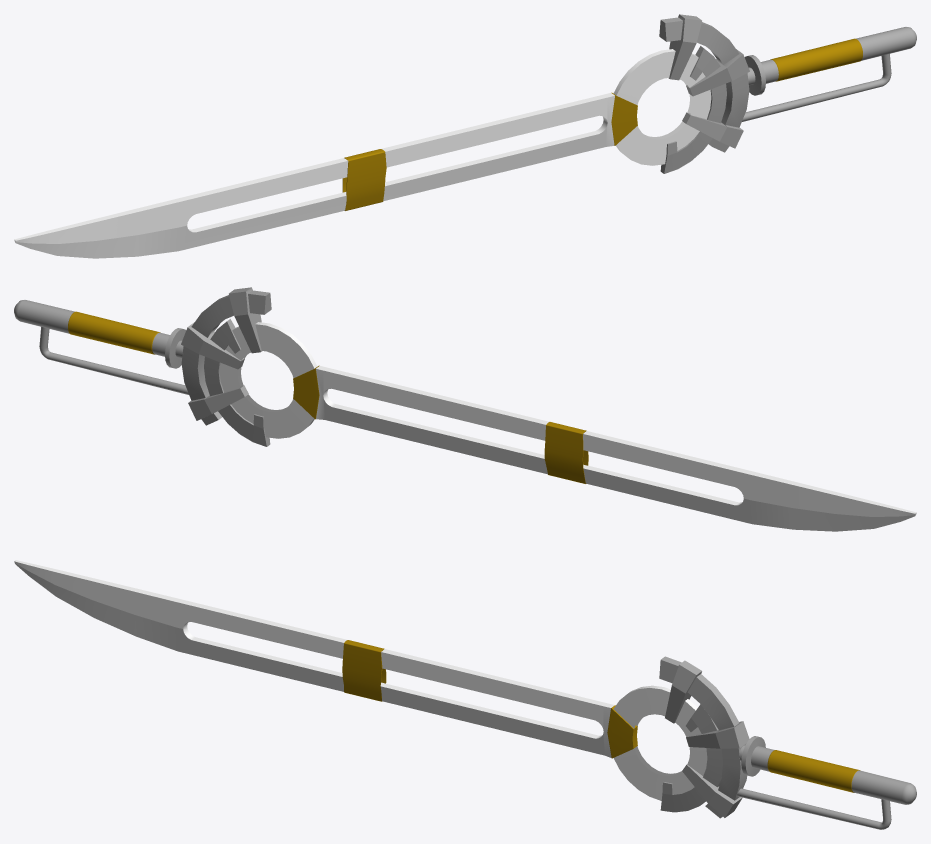
Rendered from sword.fbx.
The picture shows the model from 3 angles, top to bottom: view 1: azimuth 30°, elevation 25°; view 2: azimuth 150°, elevation 25°; view 3: azimuth 330°, elevation 25°; orthographic projection.
Parts seen in each view (by area): view 1: pasted__pCube2, pasted__pCylinder5, pasted__pCylinder2, pasted__pCylinder3, pasted__pCylinder7, pasted__pCylinder6, pasted__pCylinder4; view 2: pasted__pCube2, pasted__pCylinder5, pasted__pCylinder2, pasted__pCylinder3, pasted__pCylinder7, pasted__pCylinder6, pasted__pCylinder4; view 3: pasted__pCube2, pasted__pCylinder5, pasted__pCylinder3, pasted__pCylinder2, pasted__pCylinder7, pasted__pCylinder6, pasted__pCylinder4.
Part boxes in pixels (x1,y1,x2,y2): pasted__pCube2: (14,92,637,258); pasted__pCylinder5: (659,14,749,152); pasted__pCylinder2: (613,49,711,165); pasted__pCylinder3: (744,27,916,95); pasted__pCylinder7: (342,149,386,210); pasted__pCylinder6: (660,46,726,173); pasted__pCylinder4: (742,54,891,121); pasted__pCube2: (293,365,916,531); pasted__pCylinder5: (181,287,271,425); pasted__pCylinder2: (219,322,317,438); pasted__pCylinder3: (14,300,186,368); pasted__pCylinder7: (544,422,588,483); pasted__pCylinder6: (204,319,270,446); pasted__pCylinder4: (39,327,188,394); pasted__pCube2: (14,560,637,758); pasted__pCylinder5: (659,656,749,818); pasted__pCylinder3: (739,736,916,804); pasted__pCylinder2: (613,685,707,800); pasted__pCylinder7: (342,640,386,701); pasted__pCylinder6: (660,704,722,812); pasted__pCylinder4: (737,788,891,829).
Bounding box in the file's own units: 20.42 × 3.29 × 0.8011.
